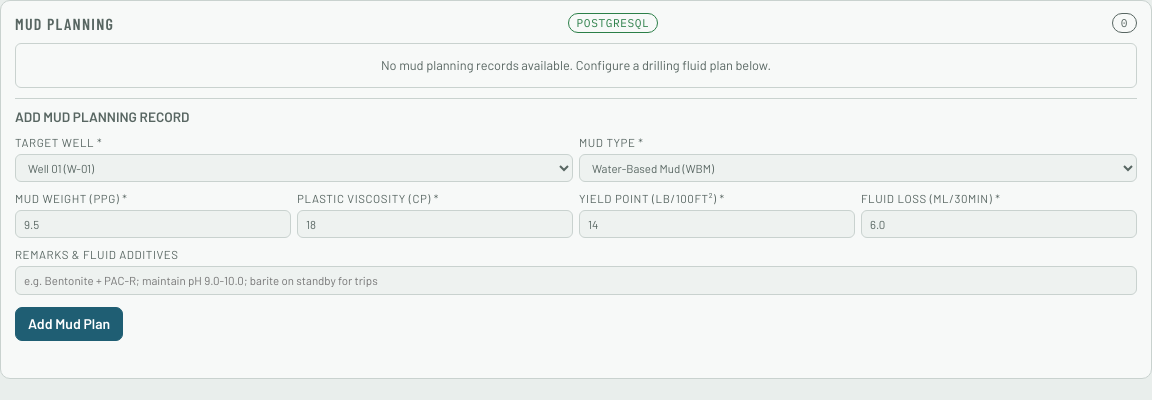
<MudPlanningEditor> › displays validation error if mud weight is non-positive or exceeds maximum
Replace the text in the number field named "mud weight in ppg" with "0" at coordinates (153, 224), box top-left (15, 210), bottom-right (291, 238)
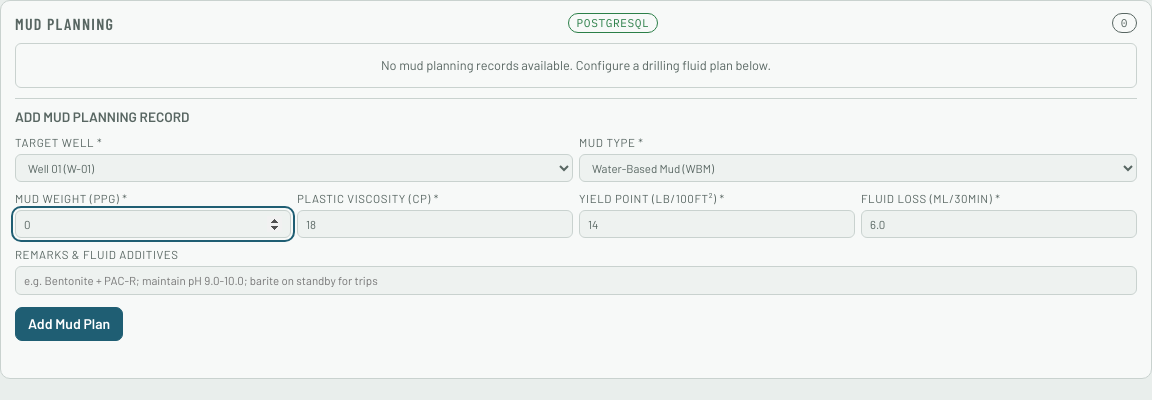
Click the button "Add Mud Plan" at coordinates (69, 324), box top-left (15, 307), bottom-right (123, 341)
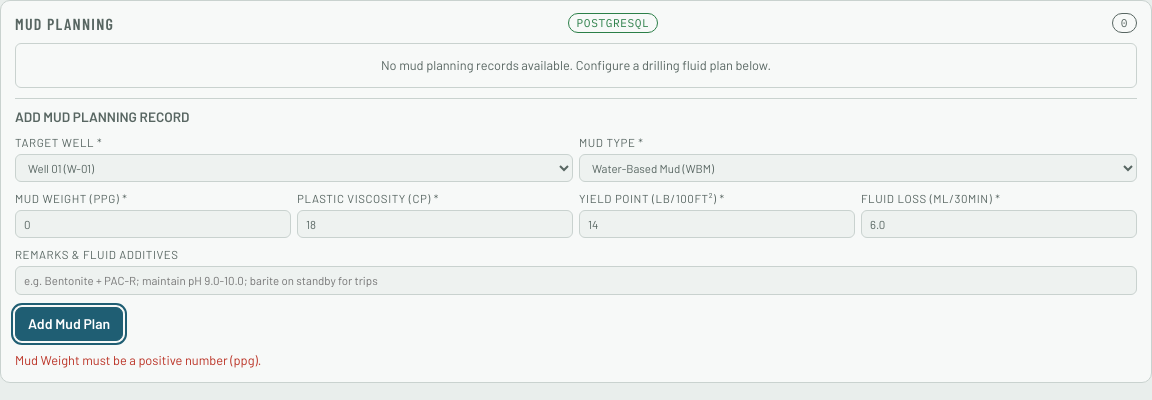
Expected: the text "Mud Weight must be a positive number (ppg)." is shown, top-left (15, 352), bottom-right (261, 368)
